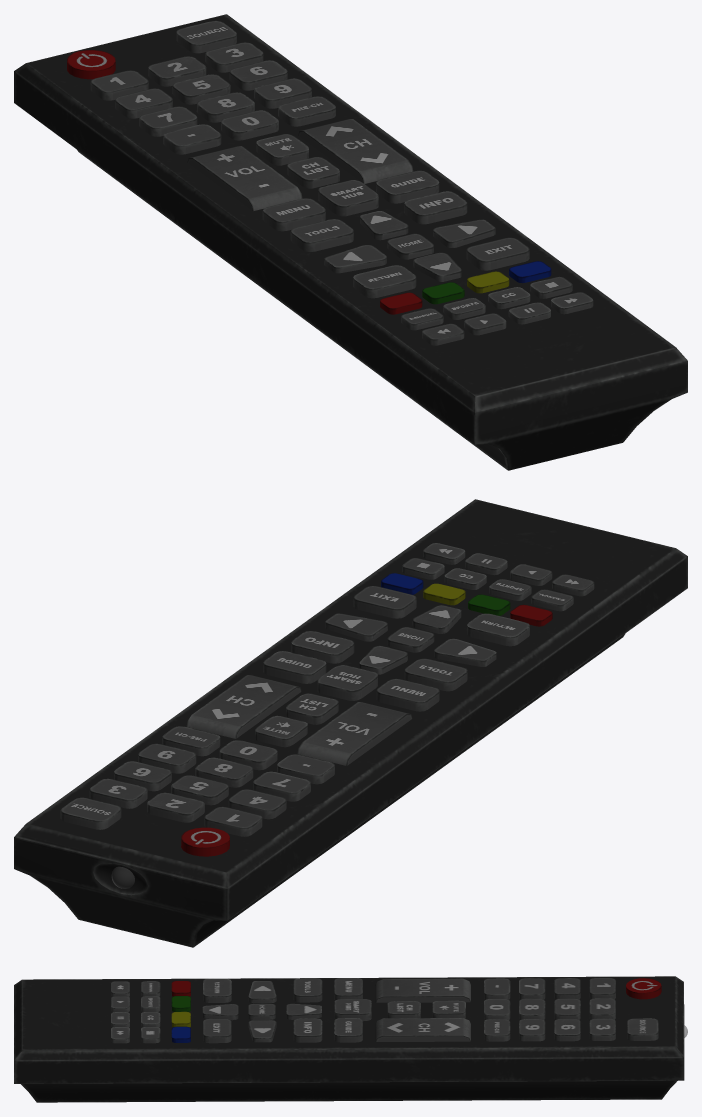
The model's file is remote_control.glb.
3 renders of one model, top to bottom at view 1: azimuth 30°, elevation 25°; view 2: azimuth 150°, elevation 25°; view 3: azimuth 270°, elevation 25°, orthographic. The views are drawn at different scales.
Parts seen in each view (by area): view 1: Cube.001; view 2: Cube.001; view 3: Cube.001.
Part boxes in pixels (left/top/right/bottom): Cube.001: left=14, top=14, right=687, bottom=470; Cube.001: left=14, top=499, right=687, bottom=947; Cube.001: left=14, top=976, right=687, bottom=1102.
Size of the model in its own units: 1.29 by 0.6053 by 4.84.
Materials: 2 (2 with a texture image).
